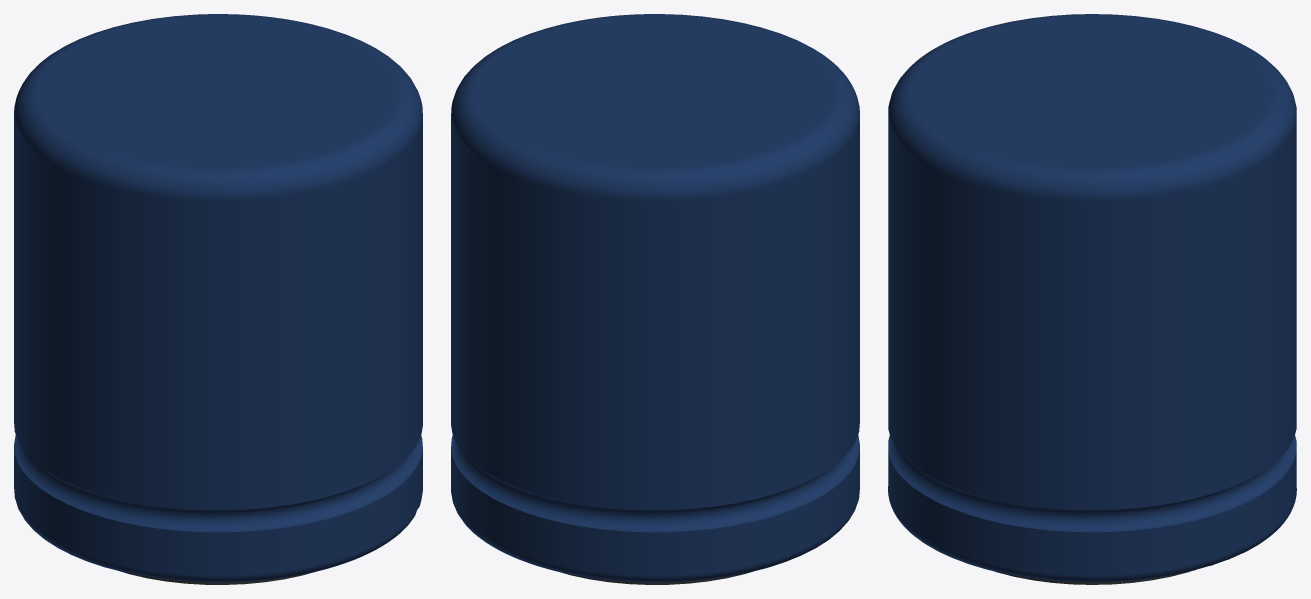
Rendered from can.glb.
The picture shows the model from 3 angles, left to right: view 1: azimuth 30°, elevation 25°; view 2: azimuth 150°, elevation 25°; view 3: azimuth 270°, elevation 25°; orthographic projection.
Parts seen in each view (by area): view 1: can; view 2: can; view 3: can.
Part boxes in pixels (box(x1,y1,x2,y2)): can: box(14, 14, 422, 584); can: box(451, 14, 859, 584); can: box(888, 14, 1296, 584).
Bounding box in the file's own units: 6.61 × 7.52 × 6.61.
